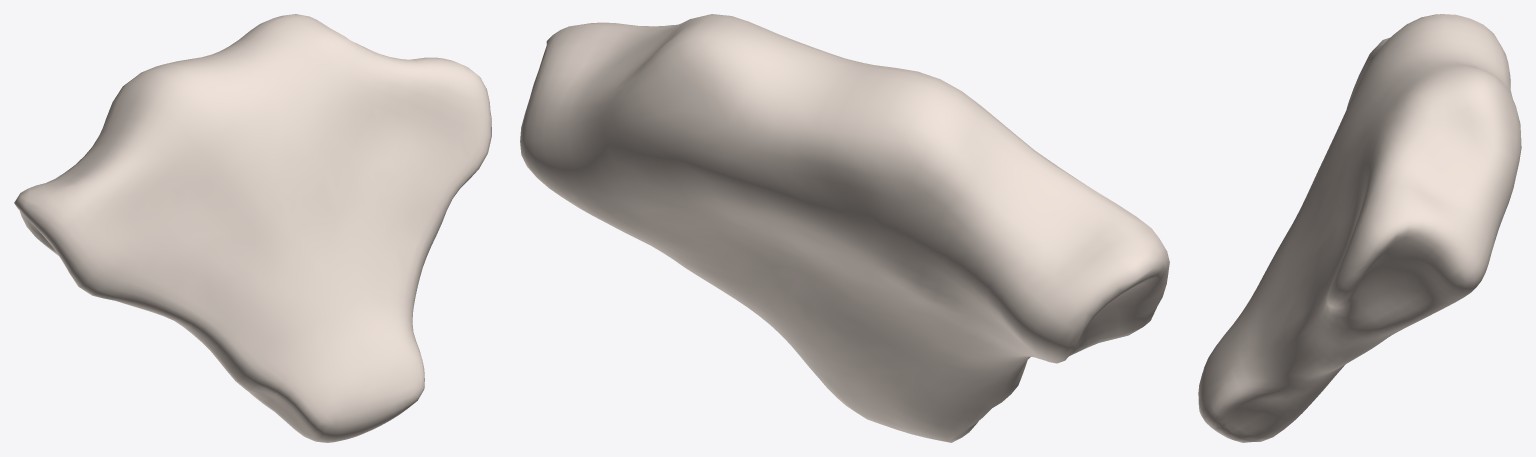
File: manubrium.glb
3 renders of one model, left to right at view 1: azimuth 30°, elevation 25°; view 2: azimuth 150°, elevation 25°; view 3: azimuth 270°, elevation 25°, orthographic. The views are drawn at different scales.
Visible parts, largest first — view 1: VH_F_manubrium; view 2: VH_F_manubrium; view 3: VH_F_manubrium.
Boxes of the visible parts, x1,y1,x2,y2 form: VH_F_manubrium: (14, 14, 491, 442); VH_F_manubrium: (520, 14, 1169, 442); VH_F_manubrium: (1198, 14, 1521, 442).
Bounding box in the file's own units: 0.0721 × 0.0523 × 0.0403.
